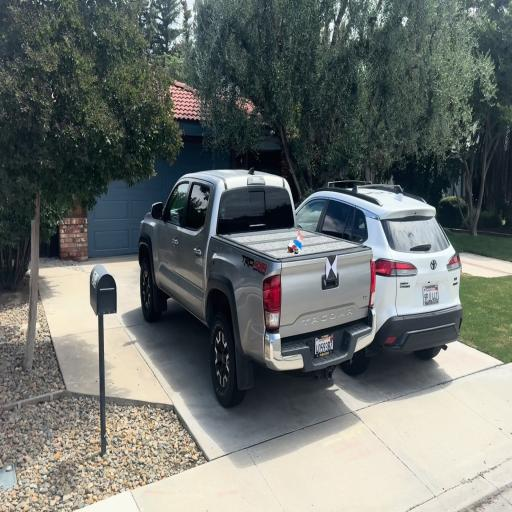target: (326, 256, 337, 280)
